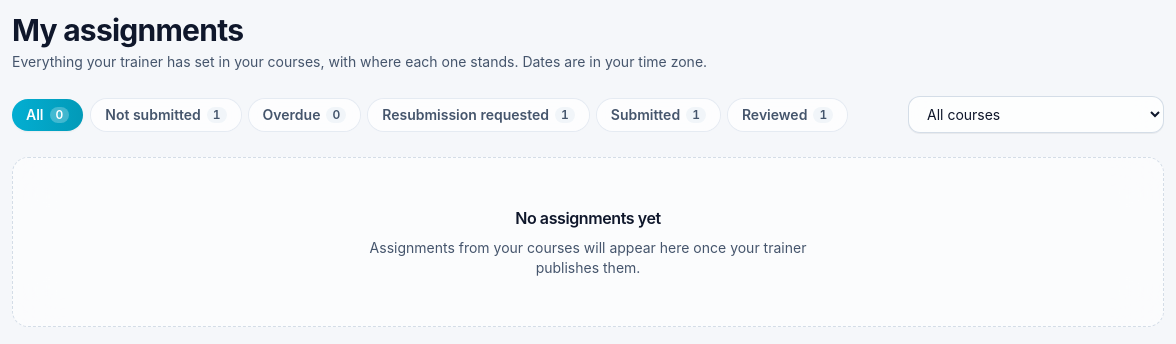
Test: MyAssignmentsPage › explains an empty list and an empty filter
The width and height of the screenshot is (1176, 344).
Expected: the heading "No assignments yet" is shown, [515,208,661,228]
Step 1. Click the button "Overdue 0" → point(304, 114), box [249,98,360,130]
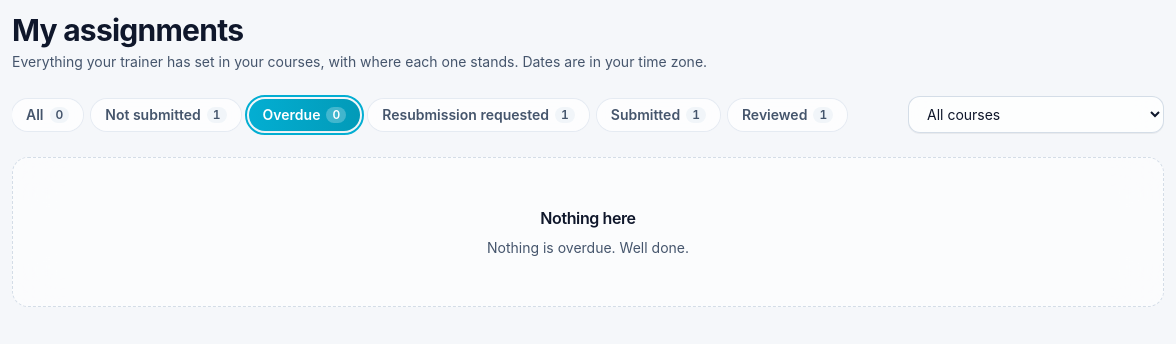
Now the text "Nothing is overdue. Well done." is shown, box [487,239,689,256]
